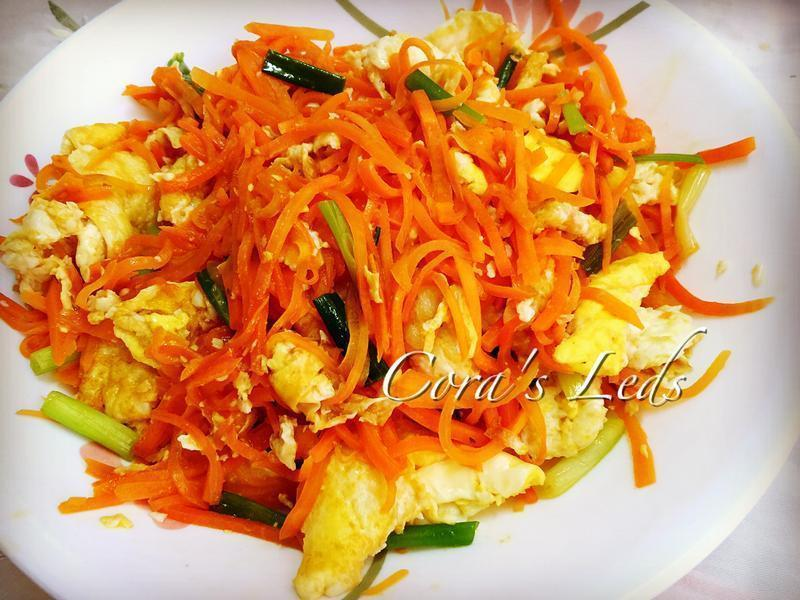carrot_eggs: (56, 33, 690, 517), (83, 156, 333, 481), (422, 69, 661, 345), (272, 411, 569, 548)
